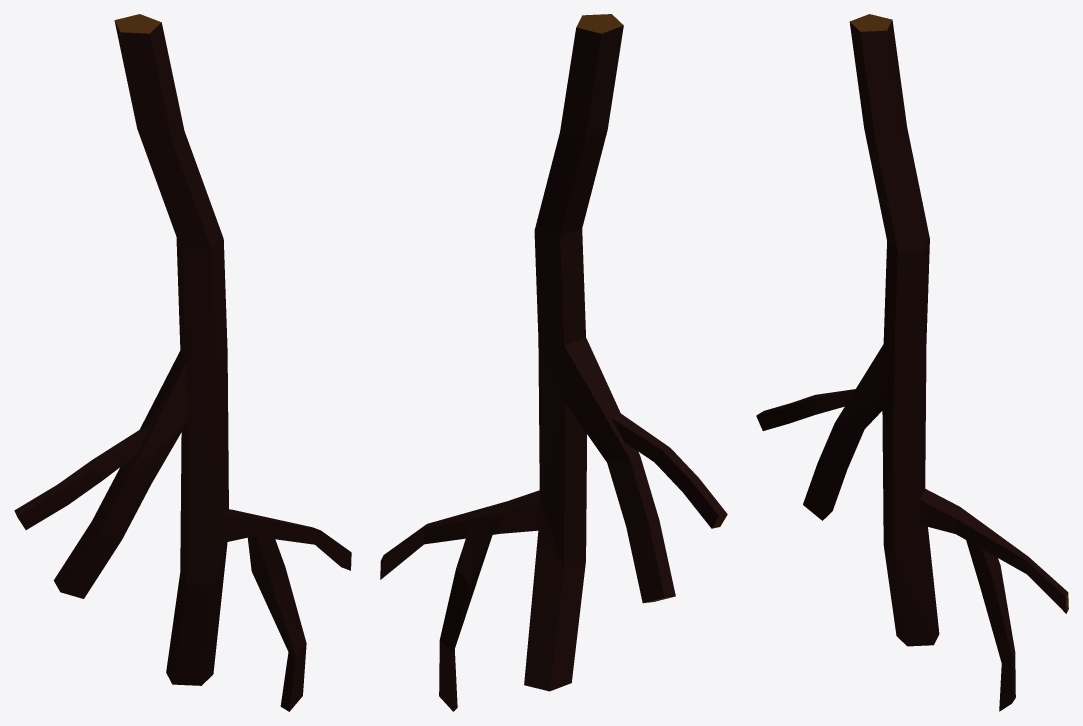
The picture shows the model from 3 angles, left to right: view 1: azimuth 30°, elevation 25°; view 2: azimuth 150°, elevation 25°; view 3: azimuth 330°, elevation 25°; orthographic projection. The views are drawn at different scales.
Parts seen in each view (by area): view 1: forest33_1; view 2: forest33_1; view 3: forest33_1.
Boxes of the visible parts, bbox=[...] form: forest33_1: bbox=[14, 14, 351, 711]; forest33_1: bbox=[380, 14, 727, 711]; forest33_1: bbox=[756, 14, 1068, 711].
Bounding box in the file's own units: 82.12 × 16.09 × 167.
